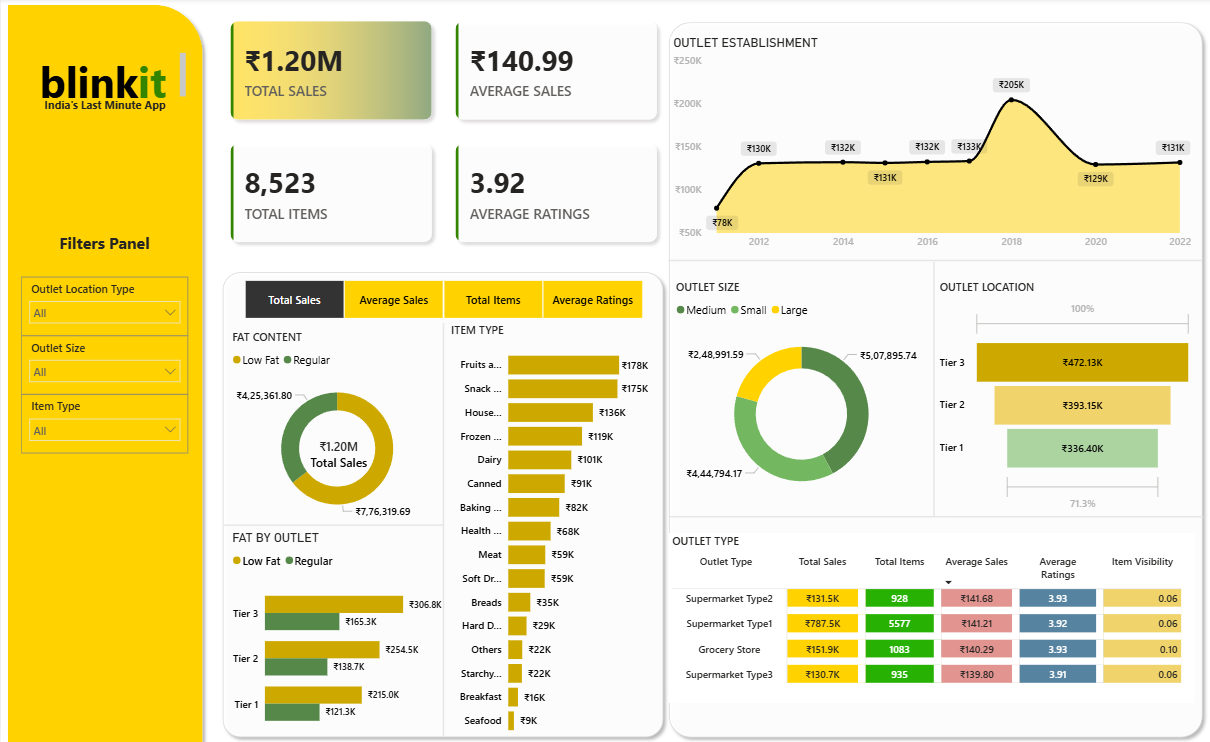

What the dashboard file says about the page in this screenshot:
{"tool":"powerbi","page":{"name":"Page 1","canvas":[1620,1000],"ordinal":0},"visuals":[{"type":"shape","box":[0,0,279.2,1400.5],"z":0},{"type":"textbox","box":[48,128,182,30],"z":1000},{"type":"textbox","box":[28,68,224,76],"z":2000},{"type":"cardVisual","fields":{"Data":["BlinkIT Grocery Data.Total Sales","BlinkIT Grocery Data.Average Sales","BlinkIT Grocery Data.Total Items","BlinkIT Grocery Data.Average Ratings"]},"box":[276.2,0,635,358.8],"z":3000},{"type":"shape","box":[288.6,358.6,608.6,641.4],"z":4000},{"type":"slicer","fields":{"Values":["Metrics.Metrics"]},"box":[301.2,372.5,581.2,63.8],"z":5000},{"type":"donutChart","title":"FAT CONTENT","fields":{"Y":["BlinkIT Grocery Data.Total Sales"],"Category":["BlinkIT Grocery Data.Item Fat Content"]},"box":[305,443.3,291.7,268.3],"z":6000},{"type":"cardVisual","fields":{"Data":["BlinkIT Grocery Data.Total Sales"]},"box":[383.3,556.7,138.3,111.7],"z":7000},{"type":"clusteredBarChart","title":"FAT BY OUTLET","fields":{"Y":["BlinkIT Grocery Data.Total Sales"],"Category":["BlinkIT Grocery Data.Outlet Location Type"],"Series":["BlinkIT Grocery Data.Item Fat Content"]},"box":[305,713.3,291.7,286.7],"z":8000},{"type":"shape","box":[298.8,700,295,12.5],"z":9000},{"type":"shape","box":[588.8,436.2,10,555],"z":10000},{"type":"barChart","title":"ITEM TYPE","fields":{"Y":["BlinkIT Grocery Data.Total Sales"],"Category":["BlinkIT Grocery Data.Item Type"]},"box":[598.6,434.3,274.3,565.7],"z":11000},{"type":"shape","box":[886.7,23.3,733.3,976.7],"z":12000},{"type":"lineChart","title":"OUTLET ESTABLISHMENT","fields":{"Y":["BlinkIT Grocery Data.Total Sales"],"Category":["BlinkIT Grocery Data.Outlet Establishment Year"]},"box":[896,50,704,296],"z":13000},{"type":"shape","box":[895.6,345.6,714.4,13.3],"z":14000},{"type":"donutChart","title":"OUTLET SIZE","fields":{"Y":["BlinkIT Grocery Data.Total Sales"],"Category":["BlinkIT Grocery Data.Outlet Size"]},"box":[900,376.7,346.7,310],"z":15000},{"type":"shape","box":[1246,354,8,341],"z":16000},{"type":"funnel","title":"OUTLET LOCATION","fields":{"Y":["BlinkIT Grocery Data.Total Sales"],"Category":["BlinkIT Grocery Data.Outlet Location Type"]},"box":[1253.3,376.7,348.3,318.3],"z":17000},{"type":"shape","box":[896.7,688.3,715,13.3],"z":18000},{"type":"pivotTable","title":"OUTLET TYPE","fields":{"Values":["BlinkIT Grocery Data.Total Sales","BlinkIT Grocery Data.Total Items","BlinkIT Grocery Data.Average Sales","BlinkIT Grocery Data.Average Ratings","Avg(BlinkIT Grocery Data.Item Visibility)"],"Rows":["BlinkIT Grocery Data.Outlet Type"]},"box":[895,716.7,705,228.3],"z":19000},{"type":"slicer","fields":{"Values":["BlinkIT Grocery Data.Outlet Location Type"]},"box":[27,373,224,79],"z":20000},{"type":"slicer","fields":{"Values":["BlinkIT Grocery Data.Outlet Size"]},"box":[27,452,224,79],"z":21000},{"type":"slicer","fields":{"Values":["BlinkIT Grocery Data.Item Type"]},"box":[27,531,224,79],"z":22000},{"type":"textbox","box":[68.8,307.5,140,51.2],"z":23000}]}

Visuals, with their boxes in screenshot pixels (x1, y1, x2, y2), scaled from the page's 1620x1000 canvas onto the 1210x742 screenshot:
shape: <region>0, 0, 209, 741</region>
textbox: <region>36, 95, 172, 117</region>
textbox: <region>21, 50, 188, 107</region>
cardVisual - BlinkIT Grocery Data.Total Sales x BlinkIT Grocery Data.Average Sales: <region>206, 0, 681, 266</region>
shape: <region>216, 266, 670, 741</region>
slicer - Metrics.Metrics: <region>225, 276, 659, 324</region>
"FAT CONTENT" donutChart: <region>228, 329, 446, 528</region>
cardVisual - BlinkIT Grocery Data.Total Sales: <region>286, 413, 390, 496</region>
"FAT BY OUTLET" clusteredBarChart: <region>228, 529, 446, 741</region>
shape: <region>223, 519, 444, 529</region>
shape: <region>440, 324, 447, 735</region>
"ITEM TYPE" barChart: <region>447, 322, 652, 741</region>
shape: <region>662, 17, 1209, 741</region>
"OUTLET ESTABLISHMENT" lineChart: <region>669, 37, 1195, 257</region>
shape: <region>669, 256, 1203, 266</region>
"OUTLET SIZE" donutChart: <region>672, 280, 931, 510</region>
shape: <region>931, 263, 937, 516</region>
"OUTLET LOCATION" funnel: <region>936, 280, 1196, 516</region>
shape: <region>670, 511, 1204, 521</region>
"OUTLET TYPE" pivotTable: <region>668, 532, 1195, 701</region>
slicer - BlinkIT Grocery Data.Outlet Location Type: <region>20, 277, 187, 335</region>
slicer - BlinkIT Grocery Data.Outlet Size: <region>20, 335, 187, 394</region>
slicer - BlinkIT Grocery Data.Item Type: <region>20, 394, 187, 453</region>
textbox: <region>51, 228, 156, 266</region>
